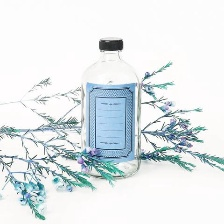bottle: (78, 33, 143, 181)
